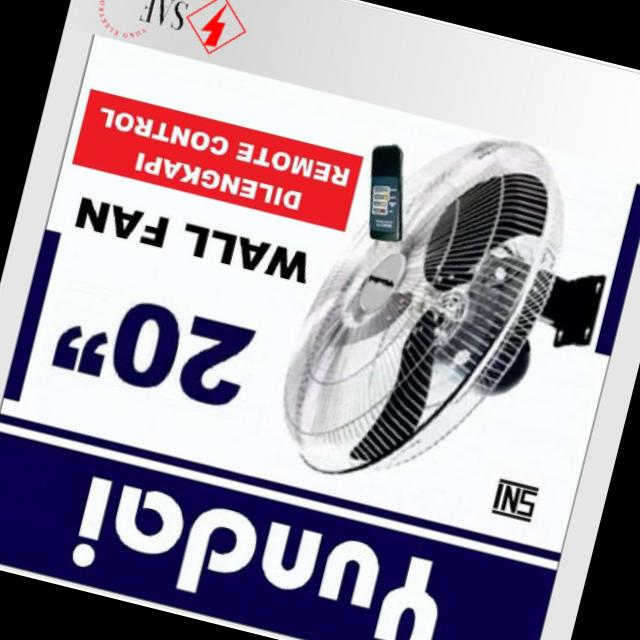fan: (272, 128, 608, 503)
